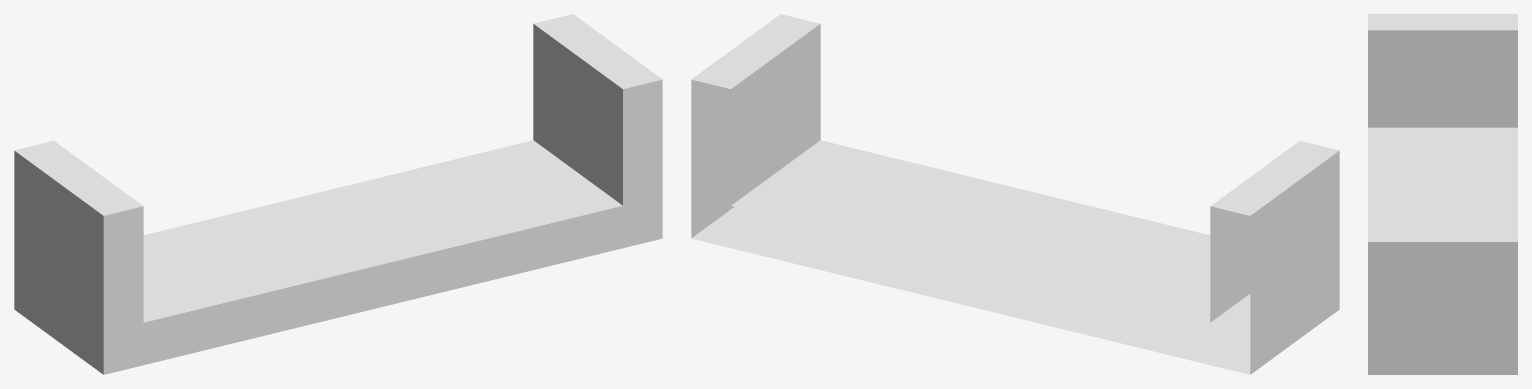
File: Shelf_11.fbx
3 renders of one model, left to right at view 1: azimuth 30°, elevation 25°; view 2: azimuth 150°, elevation 25°; view 3: azimuth 270°, elevation 25°, orthographic. The views are drawn at different scales.
Parts seen in each view (by area): view 1: Shelf_11; view 2: Shelf_11; view 3: Shelf_11.
Part boxes in pixels (bbox=[...]): Shelf_11: bbox=[14, 14, 662, 374]; Shelf_11: bbox=[691, 14, 1339, 374]; Shelf_11: bbox=[1368, 14, 1517, 374].
Size of the model in its own units: 132 by 36.59 by 35.84.
